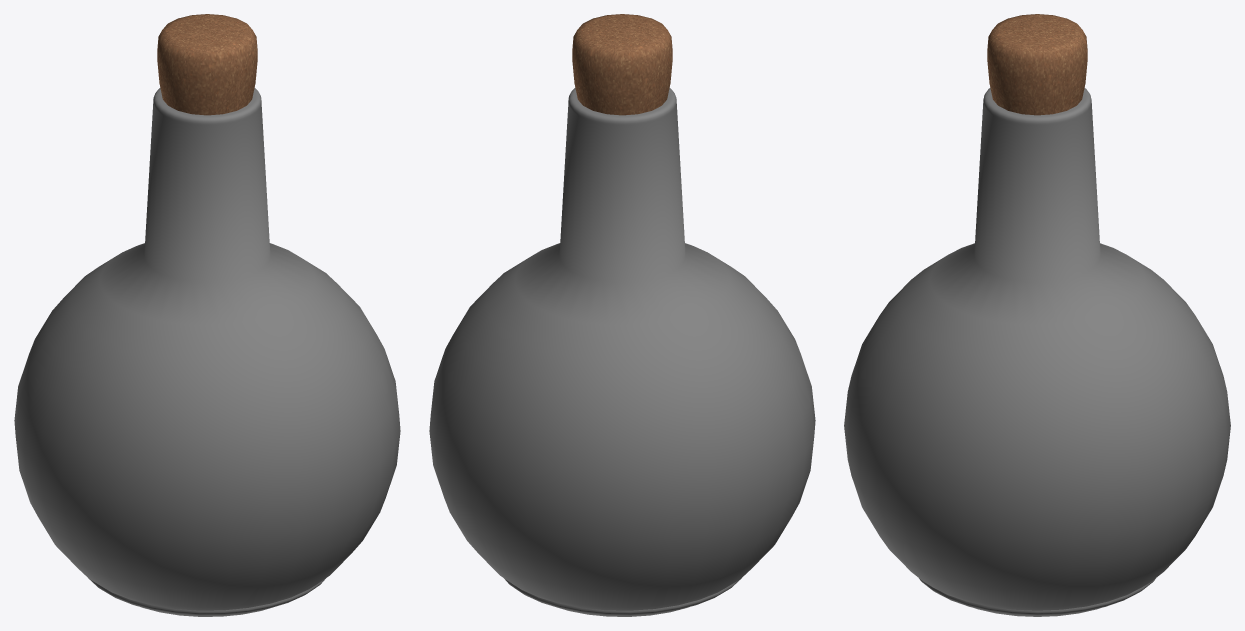
The model's file is ManaBottle.fbx.
The picture shows the model from 3 angles, left to right: view 1: azimuth 30°, elevation 25°; view 2: azimuth 150°, elevation 25°; view 3: azimuth 270°, elevation 25°; orthographic projection.
Parts seen in each view (by area): view 1: ManaBottle; view 2: ManaBottle; view 3: ManaBottle.
Boxes of the visible parts, x1,y1,x2,y2 form: ManaBottle: (14, 14, 400, 616); ManaBottle: (429, 14, 815, 616); ManaBottle: (844, 14, 1230, 616).
Bounding box in the file's own units: 6.8 × 10.49 × 6.8.
